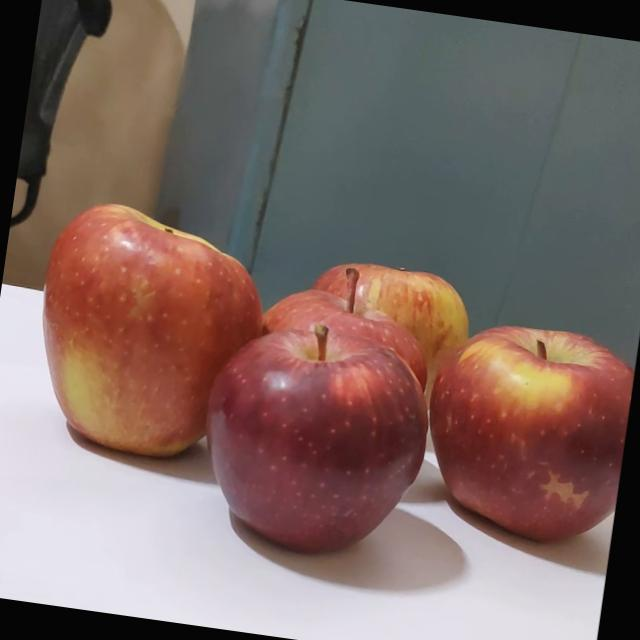apple: (378, 316, 639, 557), (8, 203, 247, 465), (167, 314, 407, 560), (218, 258, 413, 488), (285, 249, 461, 446)
